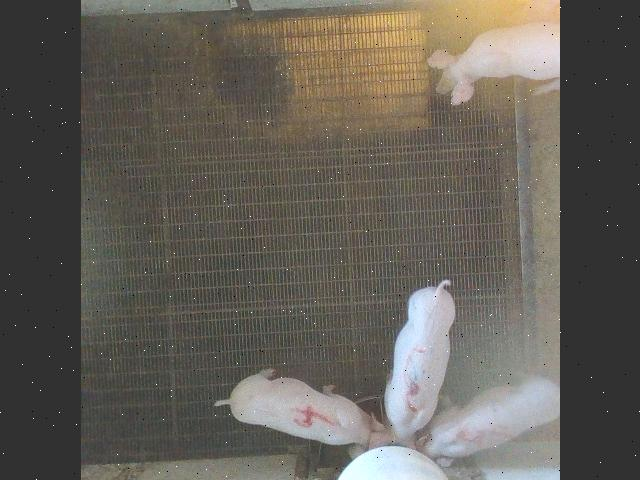pig-3: (369, 280, 454, 449)
pig-4: (214, 369, 382, 458)
pig-5: (415, 378, 559, 458)
